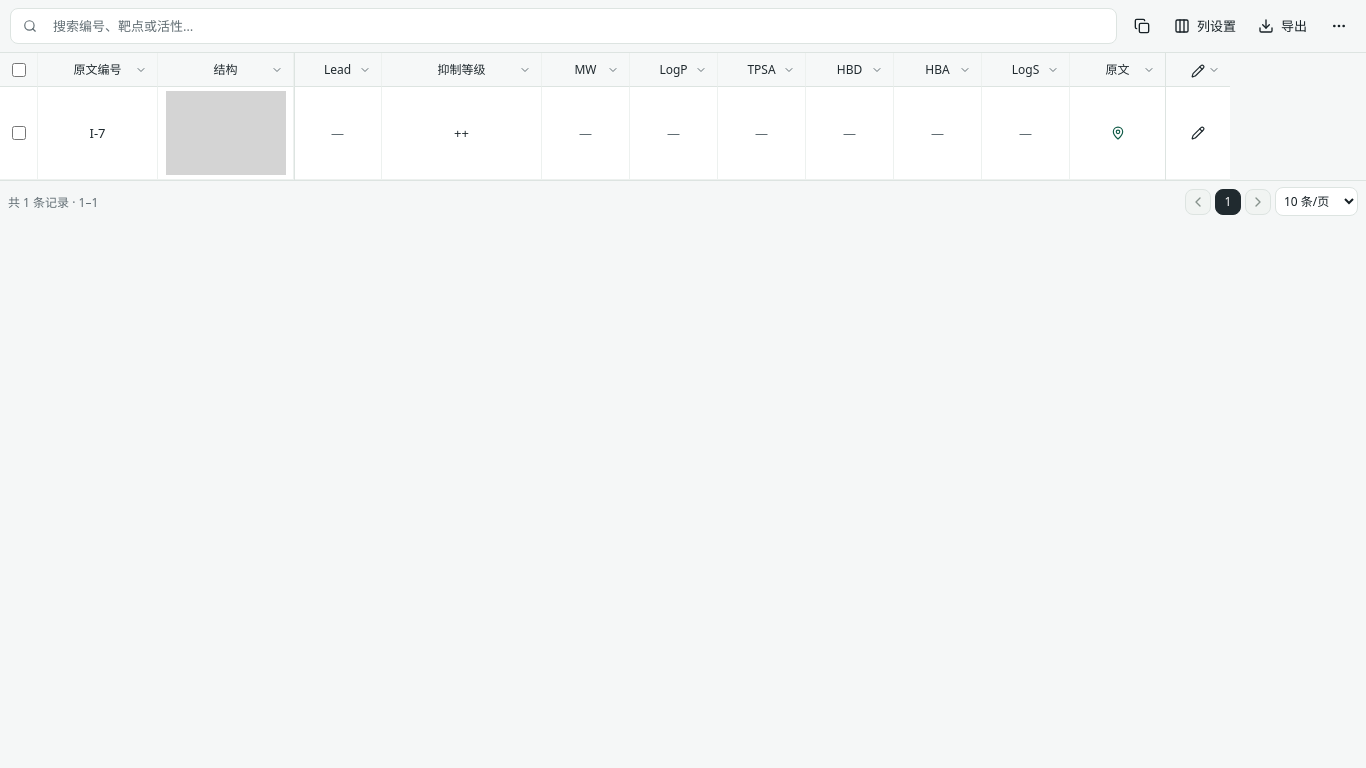
Test: current extraction failure presentation › exposes the actual blocking stage and raw-candidate warning without a historical claim
The width and height of the screenshot is (1366, 768).
Click the button named "列表选项" at (1339, 26), box [1322,9,1356,43]
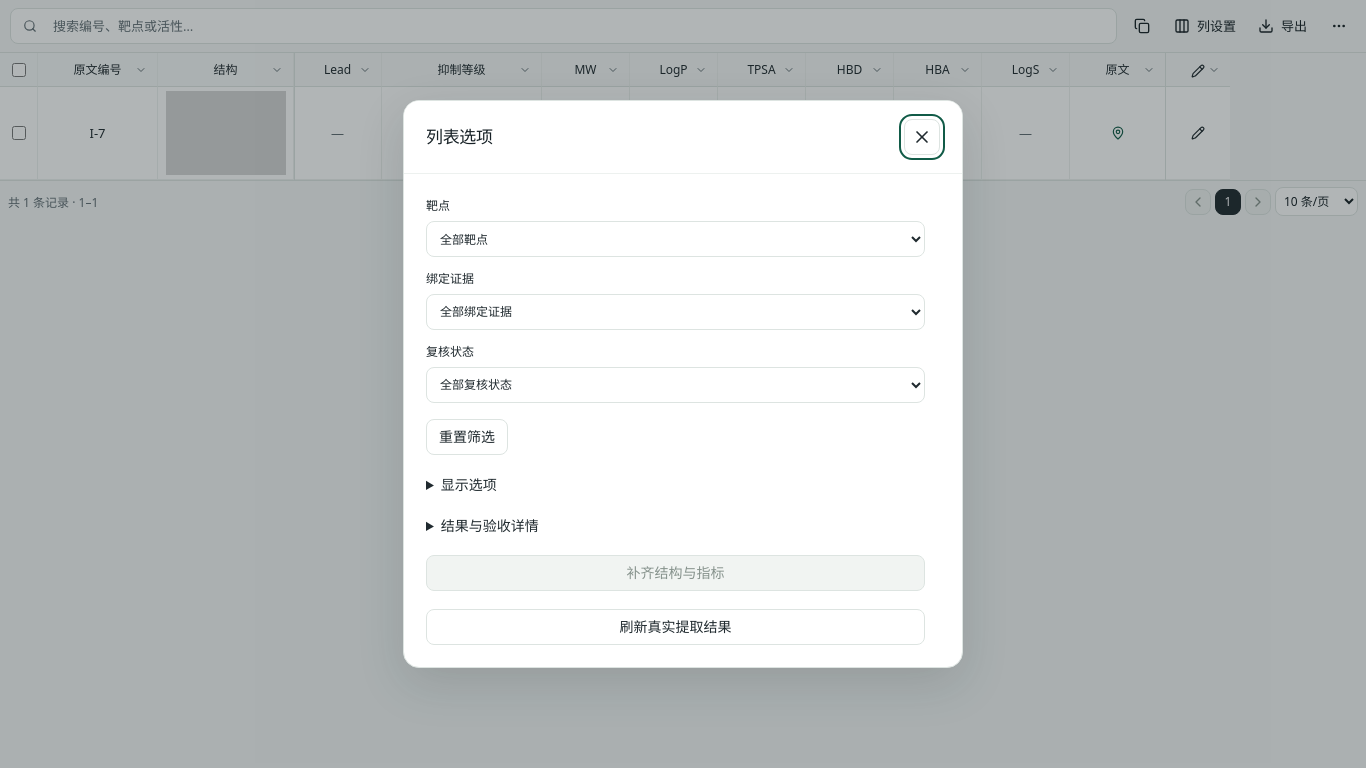
Click the heading "结果与验收详情" at (490, 525), box [441,516,539,535]
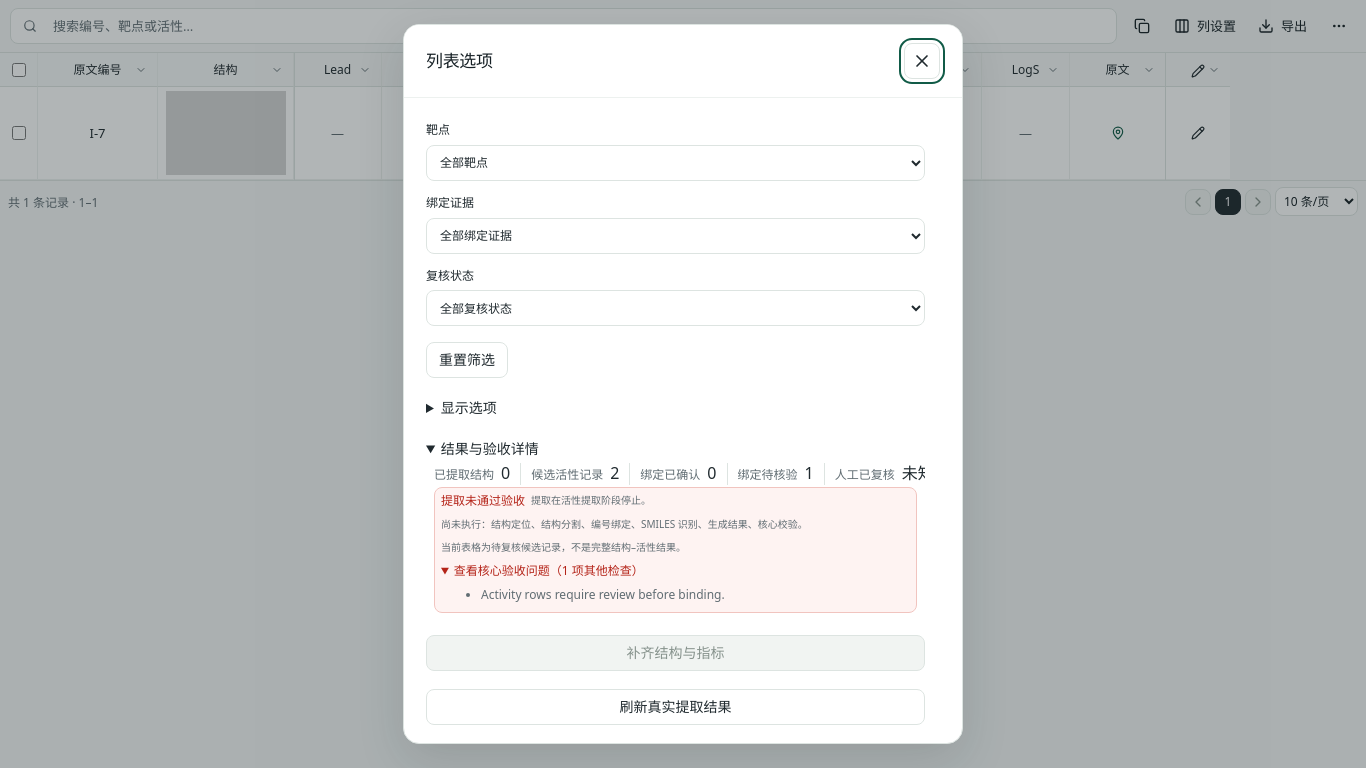
Now the text "提取在活性提取阶段停止。" is shown, box [531,492,651,509]
Now the text "尚未执行：结构定位、结构分割、编号绑定、SMILES 识别、生成结果、核心校验。" is shown, box [441,516,808,533]
Now the text "当前表格为待复核候选记录，不是完整结构–活性结果。" is shown, box [441,539,686,555]
